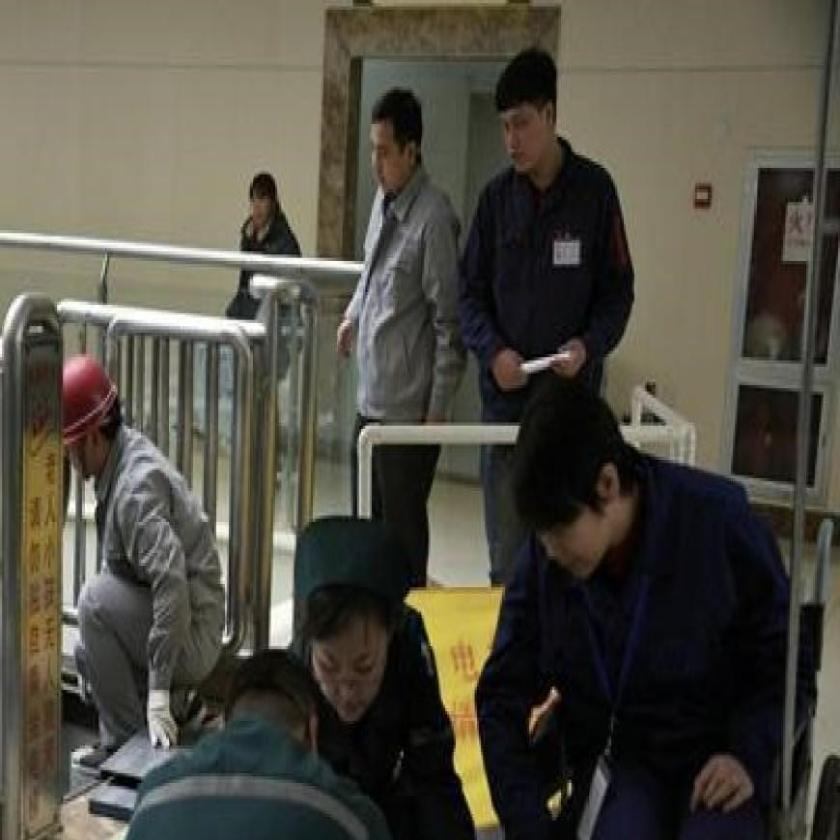Con_casco: (51, 354, 129, 481)
Sin_casco: (512, 374, 645, 603), (289, 509, 411, 718), (497, 46, 565, 181), (366, 84, 426, 196), (240, 171, 279, 231)
